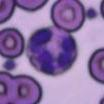N: (27, 26, 78, 74)
